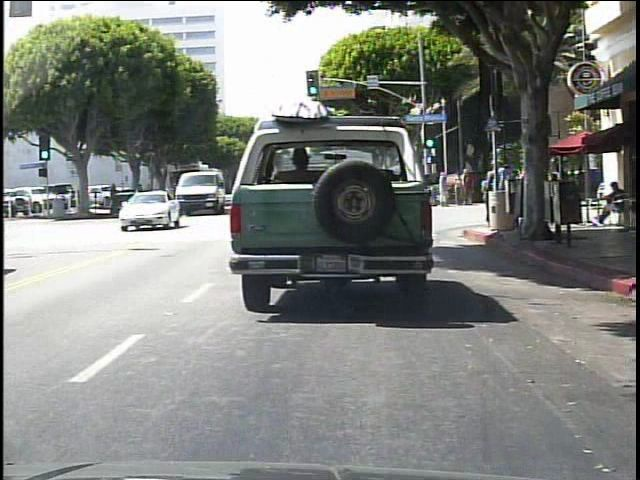person: (594, 177, 630, 226), (495, 160, 513, 227), (519, 162, 537, 219), (491, 164, 508, 220), (484, 162, 499, 224), (535, 163, 549, 206), (465, 166, 477, 206), (439, 172, 450, 208), (455, 171, 466, 206), (430, 179, 440, 209)
